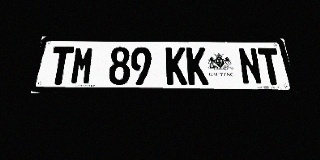8: (108, 47, 131, 85)
9: (130, 47, 151, 85)
K: (186, 47, 209, 85), (166, 47, 187, 85)
M: (69, 47, 95, 85)
N: (237, 48, 263, 85)
T: (47, 46, 74, 85), (257, 48, 284, 85)
